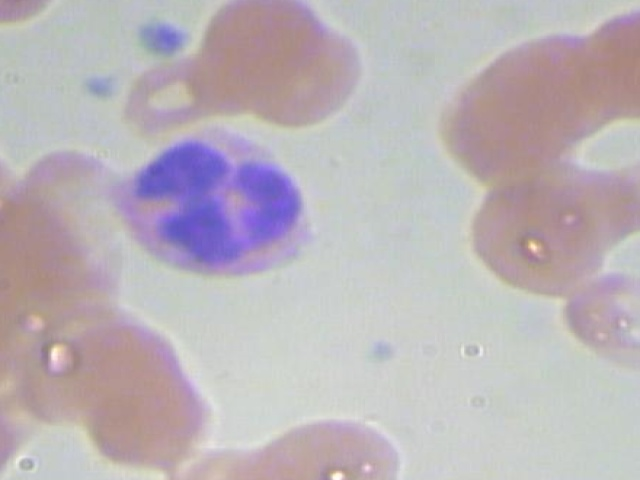Platelets: (131, 15, 197, 66), (68, 63, 131, 110)
RBC: (460, 170, 616, 299), (199, 0, 335, 94), (250, 412, 412, 480), (560, 0, 640, 133), (560, 264, 640, 392)
WBC: (96, 113, 345, 305)
